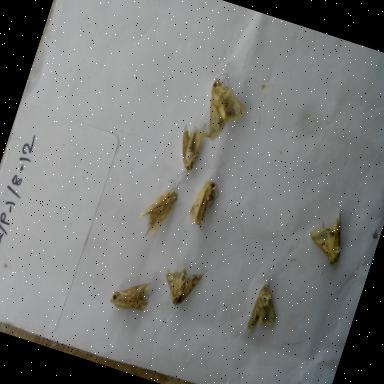abw: (192, 67, 258, 152), (128, 168, 186, 248), (160, 111, 214, 187), (298, 202, 356, 272), (150, 256, 210, 318), (174, 172, 225, 242), (102, 268, 158, 324), (242, 277, 290, 342)
